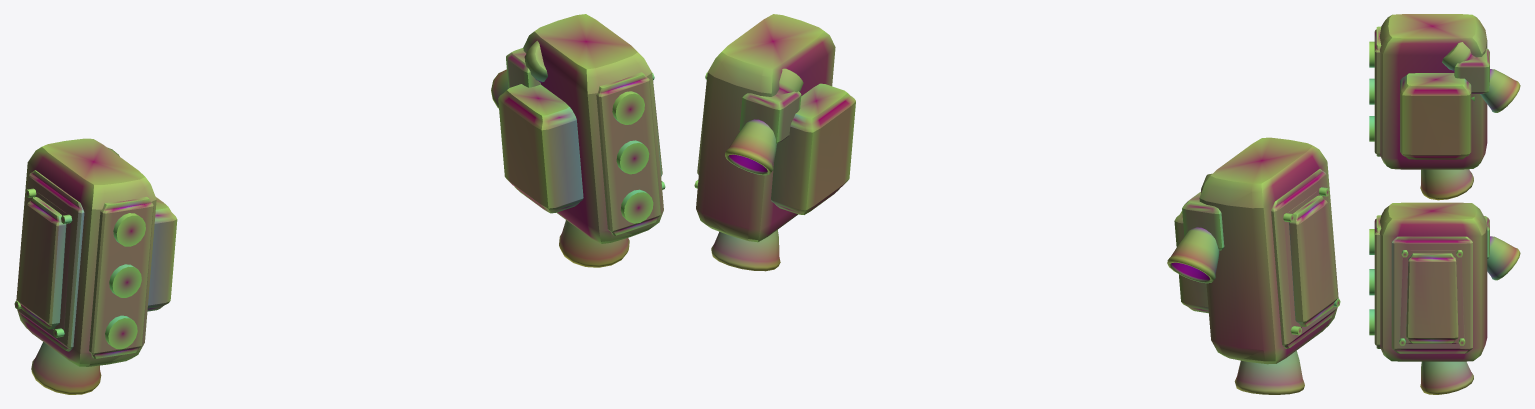
The model's file is llm_gen_leg_thrusters_052_6e2077.glb.
3 views of the same model, side by side, from view 1: azimuth 30°, elevation 25°; view 2: azimuth 150°, elevation 25°; view 3: azimuth 270°, elevation 25° (orthographic). The views are drawn at different scales.
Parts seen in each view (by area): view 1: leg_missile_hull_0_titanium_silver_r, leg_missile_hull_0_titanium_silver_l, adapter_calf_clamp_r, leg_pod_armor_cover_6_barrel_metal_l, adapter_sub_missile_bezel_dark_1_adapter_dark_l, adapter_sub_missile_bezel_dark_1_adapter_dark_r, adapter_sub_side_frame_dark_5_adapter_dark_l, adapter_calf_clamp_l, leg_ankle_bell_7_vernier_bell_vernier_l, leg_ankle_bell_7_vernier_bell_vernier_r, leg_cell_mid_3_crimson_gloss_l, leg_cell_top_2_crimson_gloss_l (+6 smaller); view 2: leg_missile_hull_0_titanium_silver_l, leg_missile_hull_0_titanium_silver_r, adapter_calf_clamp_r, leg_pod_armor_cover_6_barrel_metal_l, adapter_sub_side_frame_dark_5_adapter_dark_l, leg_ankle_bell_7_vernier_bell_vernier_l, addon_leg_bell_9_vernier_bell_vernier_r, addon_leg_bell_9_vernier_bell_vernier_l, leg_ankle_bell_7_vernier_bell_vernier_r, adapter_leg_mount_pod_dark_8_adapter_dark_r, adapter_leg_mount_pod_dark_8_adapter_dark_l, adapter_calf_clamp_l; view 3: leg_missile_hull_0_titanium_silver_l, leg_missile_hull_0_titanium_silver_r, adapter_calf_clamp_l, leg_pod_armor_cover_6_barrel_metal_r, adapter_sub_side_frame_dark_5_adapter_dark_r, leg_ankle_bell_7_vernier_bell_vernier_r, leg_ankle_bell_7_vernier_bell_vernier_l, adapter_leg_mount_pod_dark_8_adapter_dark_l, addon_leg_bell_9_vernier_bell_vernier_l, addon_leg_bell_9_vernier_bell_vernier_r, adapter_sub_missile_bezel_dark_1_adapter_dark_r, adapter_sub_missile_bezel_dark_1_adapter_dark_l (+7 smaller).
Boxes of the visible parts, <box> form: leg_missile_hull_0_titanium_silver_r: <box>523,14,663,243</box>; leg_missile_hull_0_titanium_silver_l: <box>16,138,156,366</box>; adapter_calf_clamp_r: <box>498,84,583,213</box>; leg_pod_armor_cover_6_barrel_metal_l: <box>14,188,72,337</box>; adapter_sub_missile_bezel_dark_1_adapter_dark_l: <box>89,197,153,358</box>; adapter_sub_missile_bezel_dark_1_adapter_dark_r: <box>596,72,660,235</box>; adapter_sub_side_frame_dark_5_adapter_dark_l: <box>17,170,84,351</box>; adapter_calf_clamp_l: <box>147,197,177,311</box>; leg_ankle_bell_7_vernier_bell_vernier_l: <box>31,342,101,394</box>; leg_ankle_bell_7_vernier_bell_vernier_r: <box>559,220,629,267</box>; leg_cell_mid_3_crimson_gloss_l: <box>109,264,141,297</box>; leg_cell_top_2_crimson_gloss_l: <box>113,213,145,246</box>; leg_missile_hull_0_titanium_silver_l: <box>1199,137,1338,364</box>; leg_missile_hull_0_titanium_silver_r: <box>696,14,835,242</box>; adapter_calf_clamp_r: <box>771,83,855,214</box>; leg_pod_armor_cover_6_barrel_metal_l: <box>1283,187,1340,335</box>; adapter_sub_side_frame_dark_5_adapter_dark_l: <box>1271,169,1337,348</box>; leg_ankle_bell_7_vernier_bell_vernier_l: <box>1234,351,1304,394</box>; addon_leg_bell_9_vernier_bell_vernier_r: <box>725,119,776,175</box>; addon_leg_bell_9_vernier_bell_vernier_l: <box>1167,227,1219,283</box>; leg_ankle_bell_7_vernier_bell_vernier_r: <box>711,229,780,271</box>; adapter_leg_mount_pod_dark_8_adapter_dark_r: <box>739,91,801,143</box>; adapter_leg_mount_pod_dark_8_adapter_dark_l: <box>1182,192,1224,250</box>; adapter_calf_clamp_l: <box>1174,210,1208,313</box>; leg_missile_hull_0_titanium_silver_l: <box>1379,14,1487,169</box>; leg_missile_hull_0_titanium_silver_r: <box>1379,202,1487,361</box>; adapter_calf_clamp_l: <box>1400,73,1471,159</box>; leg_pod_armor_cover_6_barrel_metal_r: <box>1399,250,1465,345</box>; adapter_sub_side_frame_dark_5_adapter_dark_r: <box>1391,236,1472,353</box>; leg_ankle_bell_7_vernier_bell_vernier_r: <box>1420,361,1473,394</box>; leg_ankle_bell_7_vernier_bell_vernier_l: <box>1420,169,1473,200</box>; adapter_leg_mount_pod_dark_8_adapter_dark_l: <box>1454,48,1489,93</box>; addon_leg_bell_9_vernier_bell_vernier_l: <box>1480,69,1520,112</box>; addon_leg_bell_9_vernier_bell_vernier_r: <box>1487,236,1520,280</box>; adapter_sub_missile_bezel_dark_1_adapter_dark_r: <box>1374,215,1381,348</box>; adapter_sub_missile_bezel_dark_1_adapter_dark_l: <box>1374,26,1381,156</box>.
Size of the model in its own units: 84.06 by 29.61 by 23.28.
